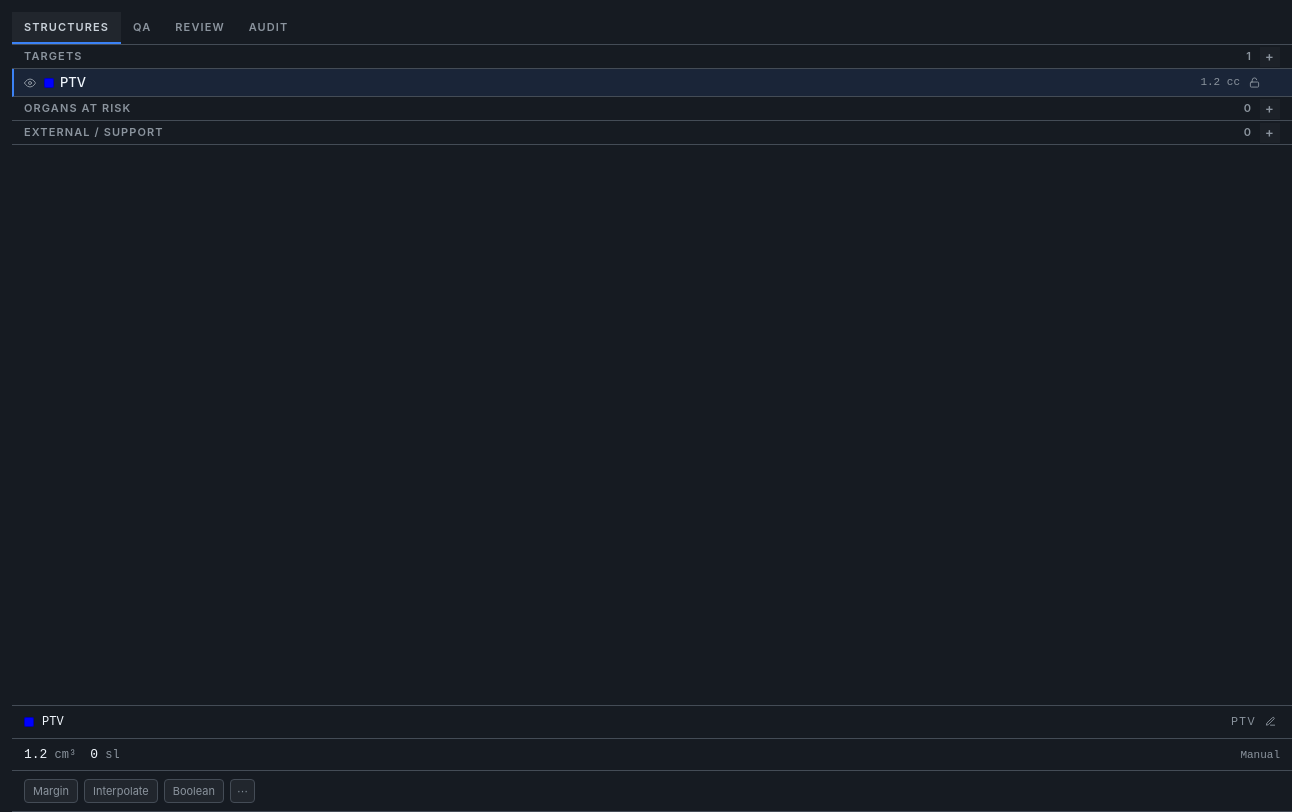
Test: StructurePanel local draft and structure editing interactions › edits the active structure type
Click the button named "Edit active structure type" at (1270, 722), box [1260,712,1280,732]
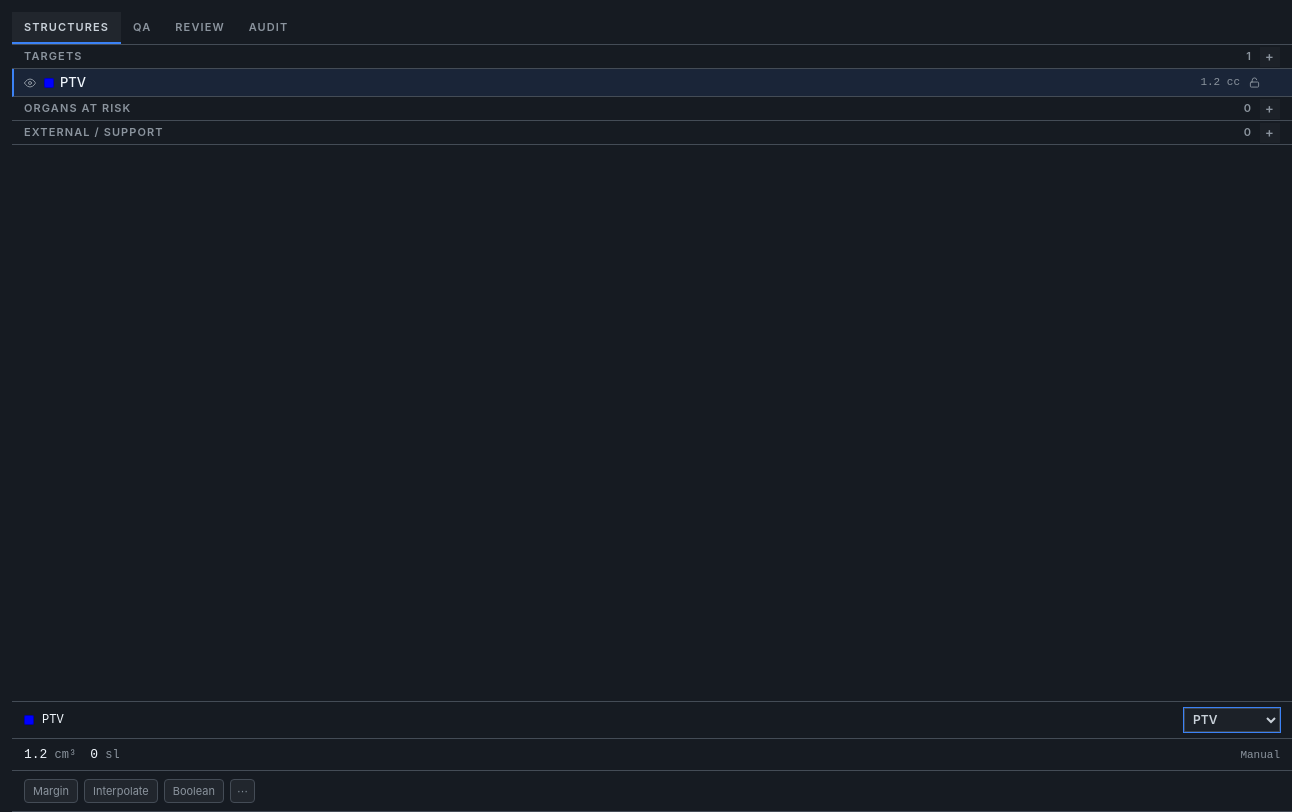
Select "OAR" in the dropdown named "Active structure type" at (1232, 720), box [1184,708,1280,732]
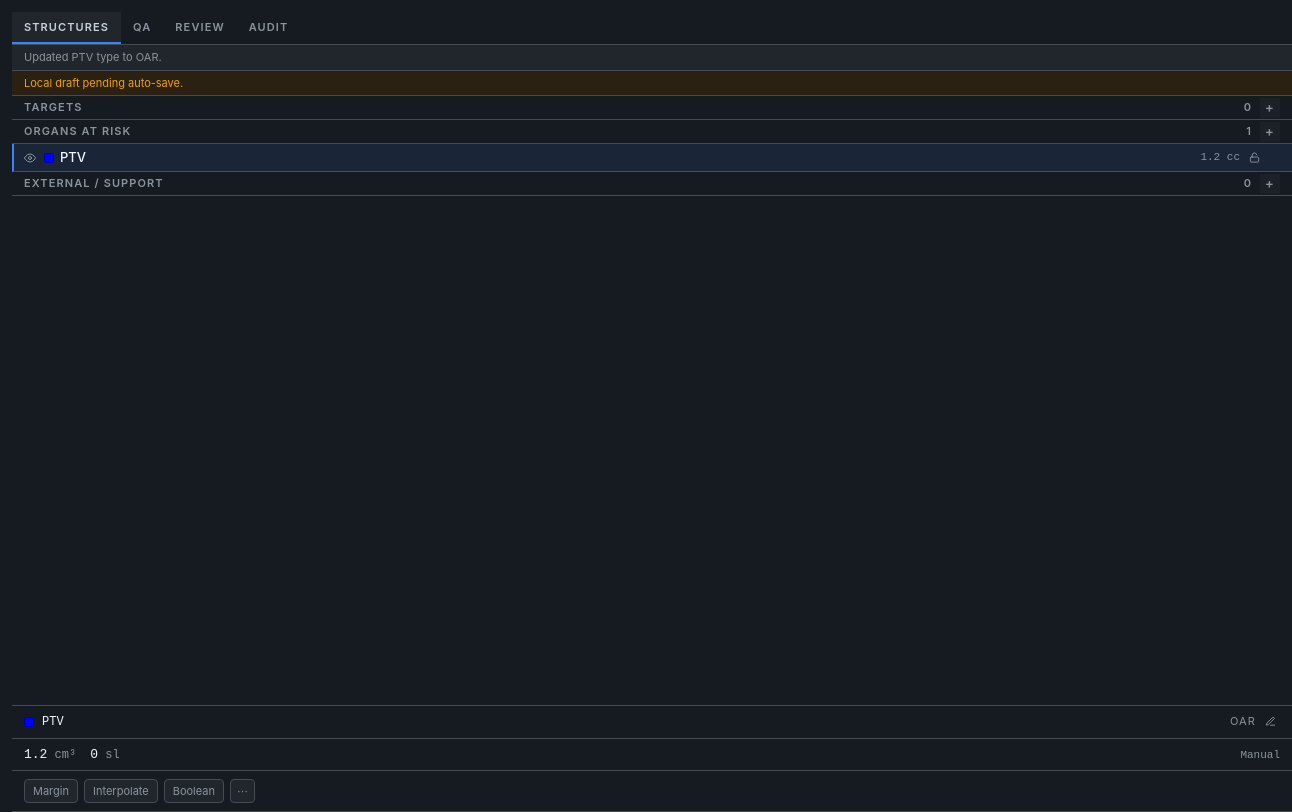
Now the text "OAR" is shown, box [1230,713,1256,730]
